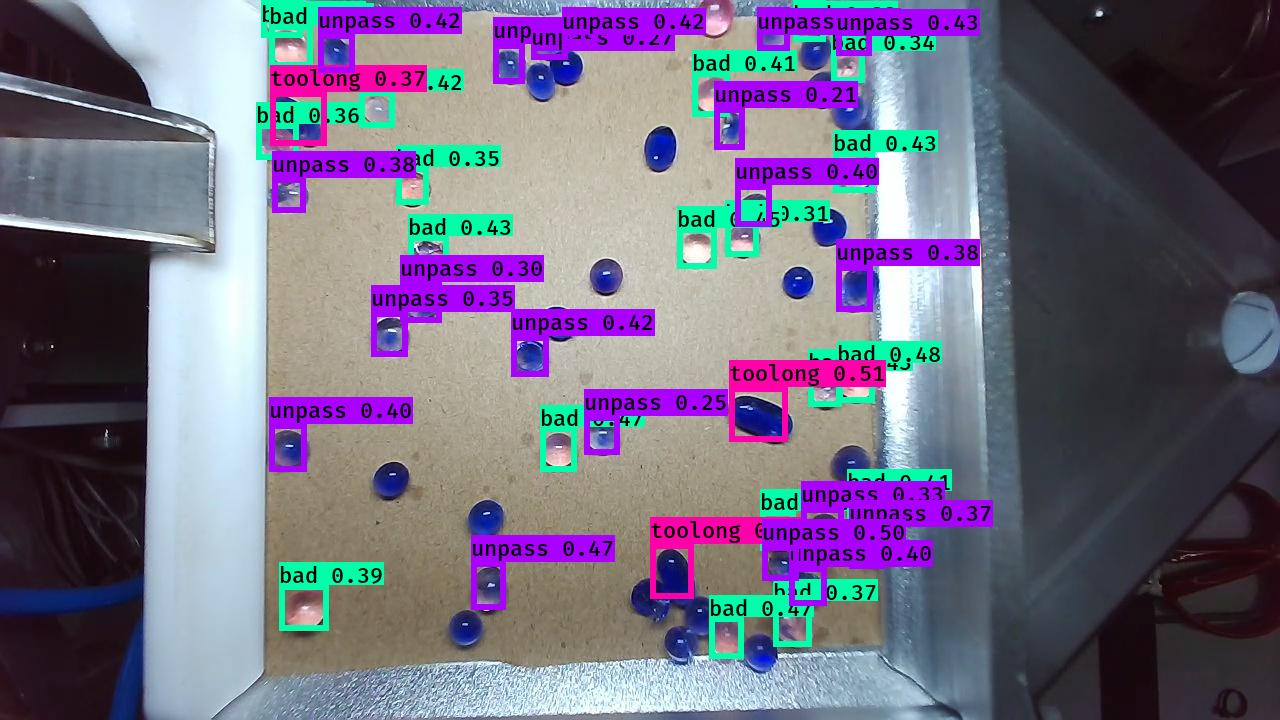bad: (769, 600, 816, 647), (282, 586, 327, 634), (257, 121, 299, 164), (272, 29, 313, 70), (706, 617, 747, 658), (692, 75, 733, 116), (693, 1, 738, 38), (836, 154, 876, 194), (540, 427, 576, 469), (807, 374, 846, 412), (358, 91, 397, 129), (395, 169, 432, 209), (677, 231, 714, 269), (409, 239, 451, 272), (845, 497, 884, 532), (839, 368, 875, 404), (831, 52, 866, 89), (727, 222, 761, 259), (797, 1, 828, 41), (264, 2, 300, 36), (764, 516, 798, 549)
defact: (717, 112, 743, 151)
pass: (640, 124, 680, 173), (465, 498, 508, 542), (628, 577, 669, 623), (830, 441, 870, 488), (370, 460, 410, 504), (682, 594, 720, 636), (742, 633, 780, 675), (587, 258, 625, 299), (449, 607, 484, 651), (831, 91, 867, 132), (540, 302, 578, 340), (780, 263, 817, 302), (801, 72, 840, 109), (536, 23, 573, 59), (811, 212, 848, 248), (662, 625, 698, 662), (549, 51, 585, 87), (799, 33, 832, 71), (524, 63, 556, 102)
toolong: (727, 393, 792, 443), (269, 94, 323, 147), (655, 548, 696, 608)
unpass: (832, 3, 874, 59), (267, 428, 313, 473), (838, 264, 879, 314), (468, 564, 506, 614), (370, 316, 410, 358), (582, 417, 621, 457), (805, 512, 842, 552), (491, 47, 528, 87), (401, 284, 439, 322), (734, 188, 771, 227), (852, 530, 889, 569), (755, 10, 790, 51), (318, 34, 355, 72), (269, 178, 308, 214), (513, 338, 548, 378), (565, 4, 600, 43), (793, 568, 827, 604), (766, 549, 800, 583)
